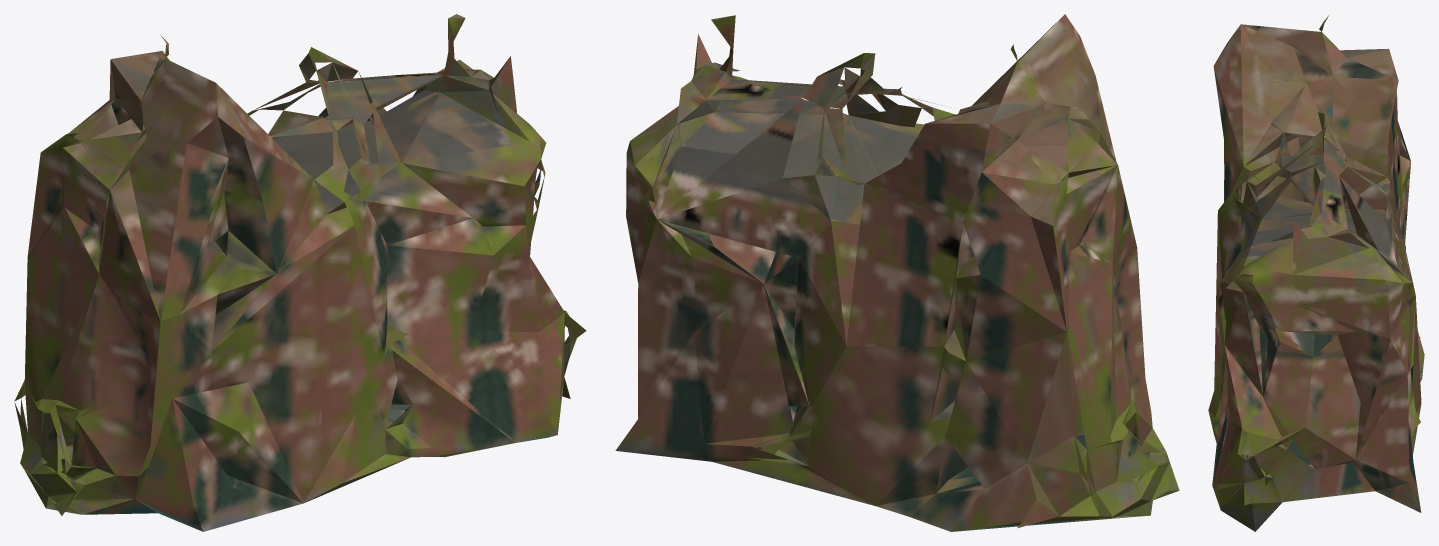
Rendered from cityWarehouse_lo.glb.
3 renders of one model, left to right at view 1: azimuth 30°, elevation 25°; view 2: azimuth 150°, elevation 25°; view 3: azimuth 270°, elevation 25°, orthographic. The views are drawn at different scales.
Parts seen in each view (by area): view 1: output_unwrapped; view 2: output_unwrapped; view 3: output_unwrapped.
Part boxes in pixels (left/top/right/bottom): output_unwrapped: left=14, top=14, right=586, bottom=531; output_unwrapped: left=615, top=14, right=1179, bottom=531; output_unwrapped: left=1208, top=15, right=1424, bottom=531.
Size of the model in its own units: 1.7 by 1.48 by 0.7649.
Materials: 1 (1 with a texture image).
